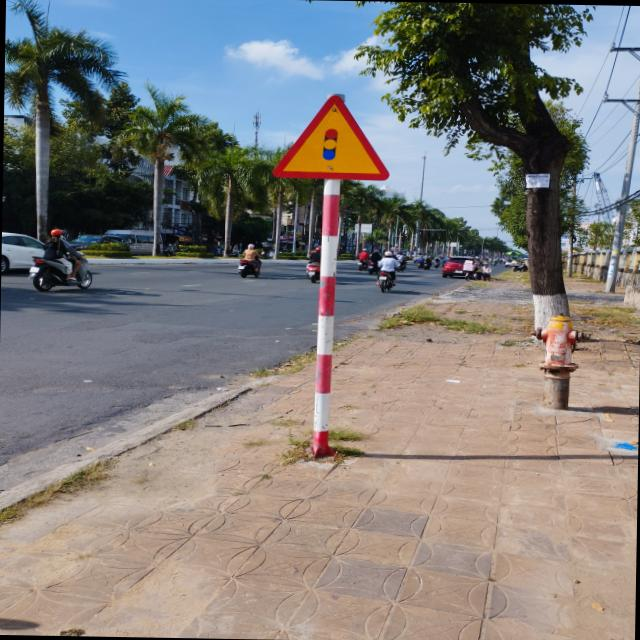Duong_Co_Go_Giam_Toc: (273, 94, 389, 180)
